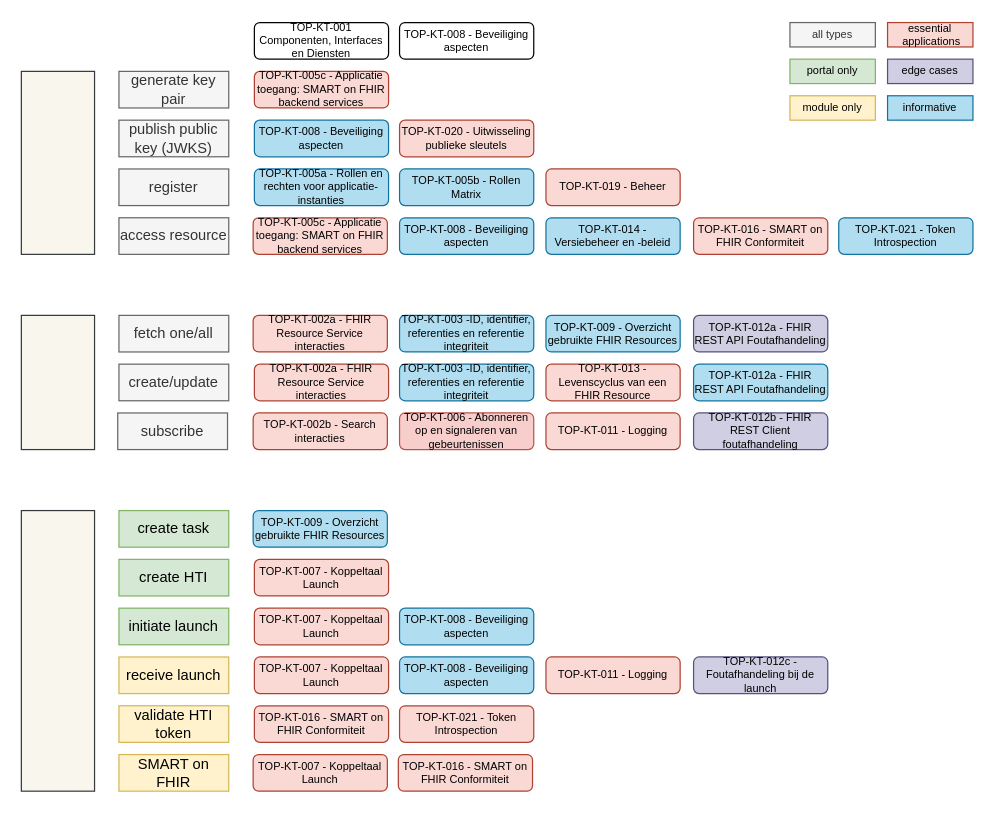
Image size: 994x813. Some labels were removed from this diagram. Each missing label, with the box of its shape:
connect: (20, 70, 95, 254)
exchange: (20, 314, 95, 450)
launch: (20, 509, 95, 791)
